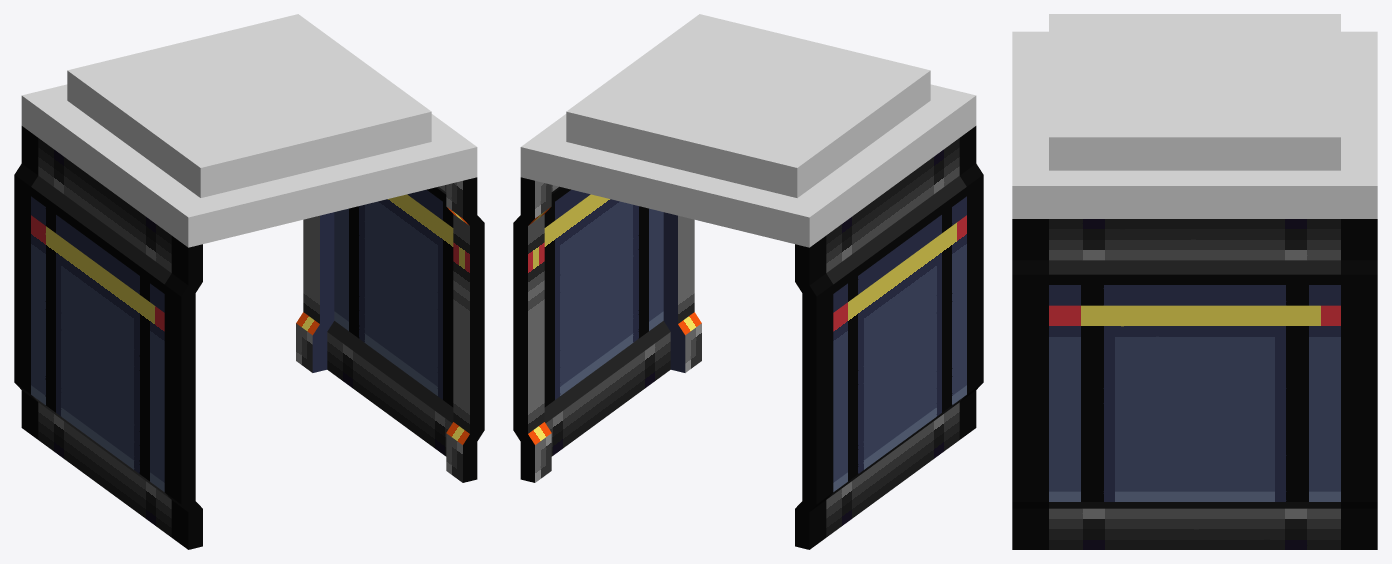
The picture shows the model from 3 angles, left to right: view 1: azimuth 30°, elevation 25°; view 2: azimuth 150°, elevation 25°; view 3: azimuth 270°, elevation 25°; orthographic projection. The views are drawn at different scales.
Visible parts, largest first — view 1: Roof, W, E; view 2: Roof, W, E; view 3: E, Roof.
Part boxes in pixels (<box>): Roof: <box>21,14,477,247</box>; W: <box>14,126,202,549</box>; E: <box>296,177,484,482</box>; Roof: <box>520,14,976,247</box>; W: <box>795,126,983,549</box>; E: <box>513,177,701,482</box>; E: <box>1012,219,1377,549</box>; Roof: <box>1012,14,1377,218</box>.
Size of the model in its own units: 2.1 by 2.4 by 2.
Materials: 2 (1 with a texture image).
